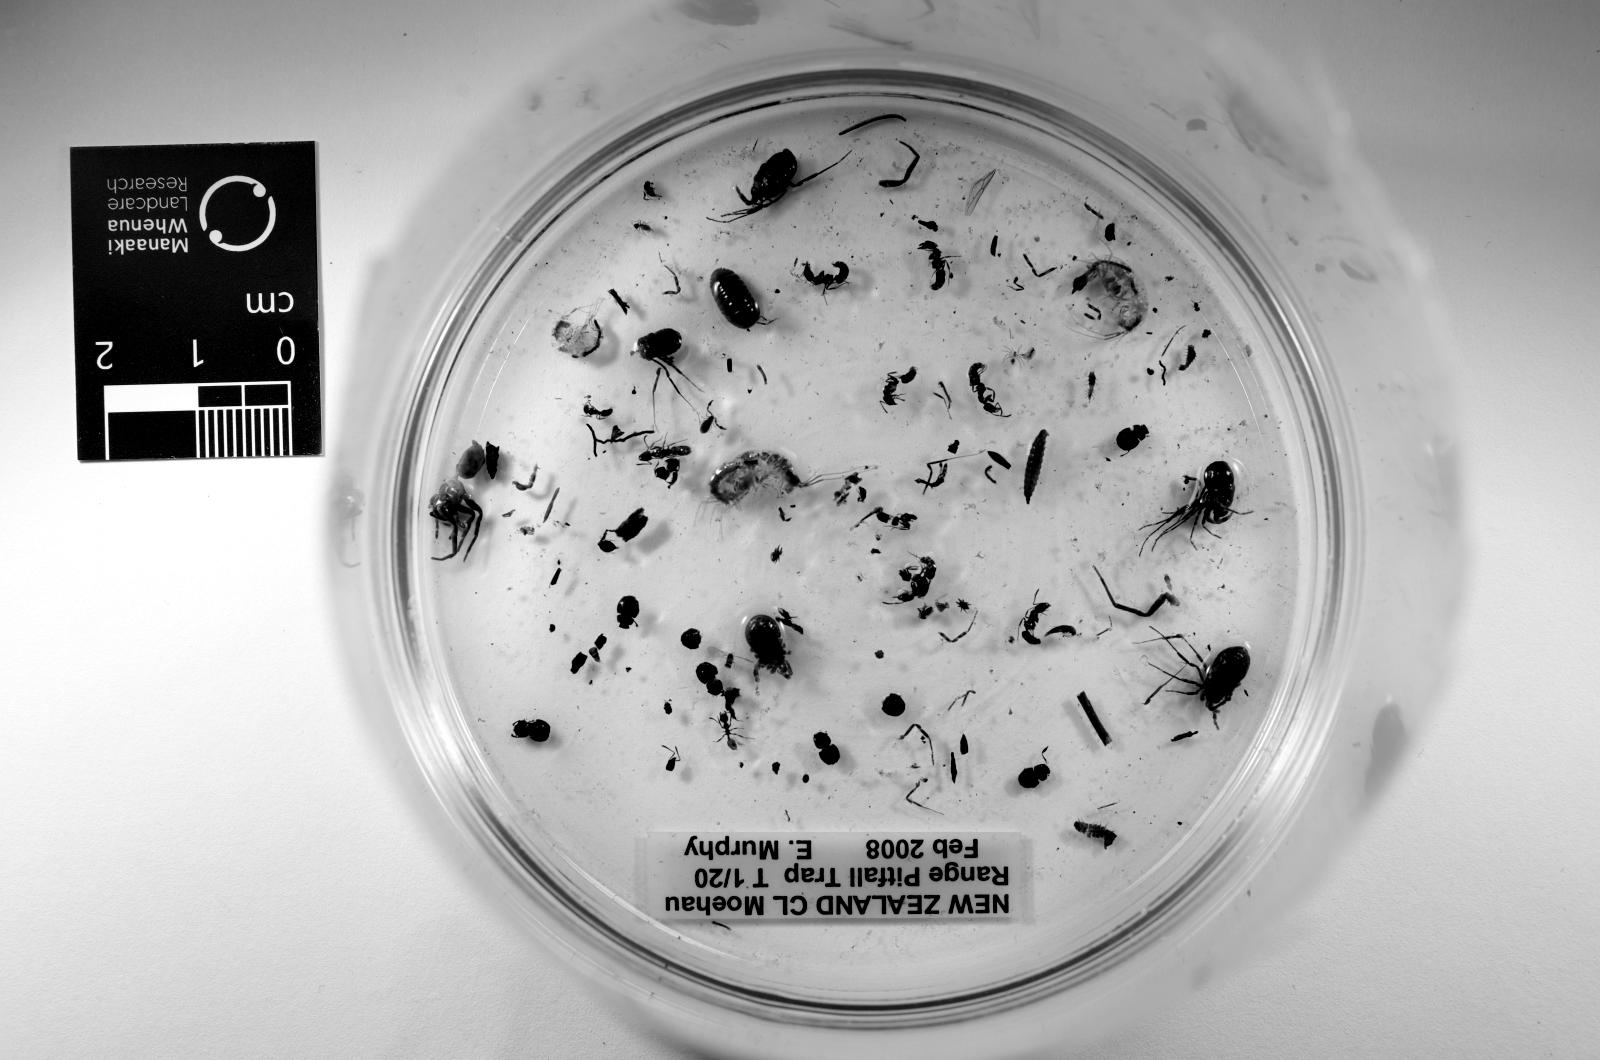amphipoda: (1071, 258, 1147, 332), (747, 451, 825, 493), (710, 457, 759, 506), (553, 317, 603, 357)
araneae: (428, 441, 487, 558), (1003, 348, 1025, 367)
coleoptera: (812, 733, 841, 767), (1018, 761, 1050, 789), (1115, 426, 1149, 451), (697, 661, 721, 696), (512, 720, 550, 742), (616, 596, 641, 627), (856, 485, 866, 503)
diptera: (643, 180, 660, 199)
formicidae: (969, 363, 1006, 416), (803, 260, 850, 292), (919, 239, 947, 292), (1018, 600, 1050, 646), (881, 367, 915, 407), (641, 441, 691, 463), (719, 715, 738, 751), (584, 397, 613, 419)
isopoda: (710, 267, 759, 329)
opiliones: (1144, 634, 1250, 726), (710, 149, 835, 224), (1147, 459, 1235, 543), (634, 329, 681, 401), (744, 615, 793, 680)
pseudoscorpiones: (700, 401, 725, 435)
